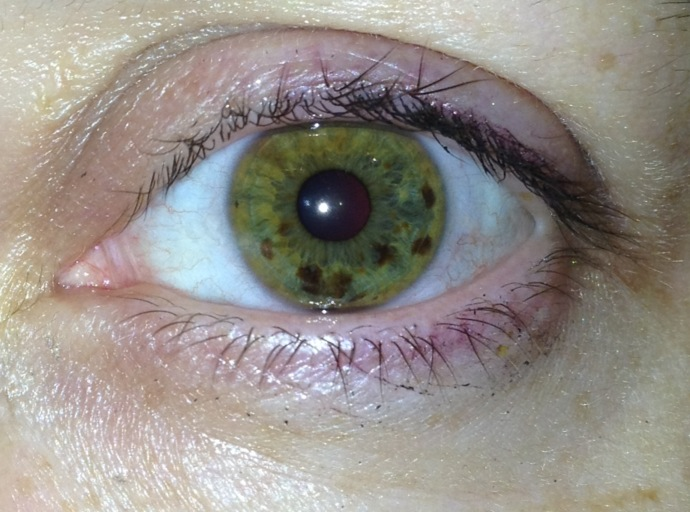iris: (226, 106, 448, 313)
pupil: (298, 165, 367, 243)
